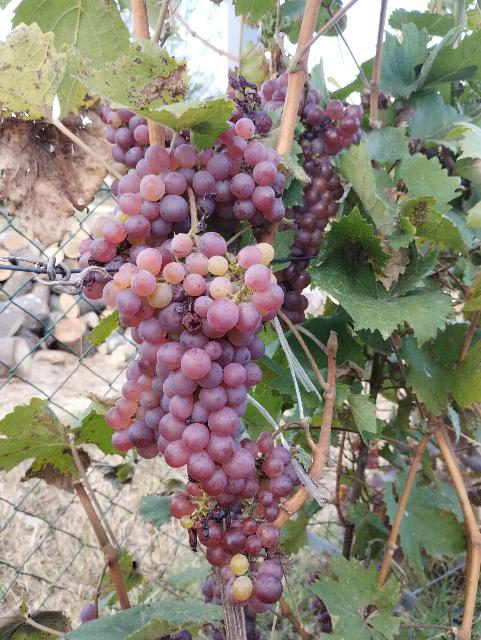grapes: (102, 210, 290, 506), (80, 106, 281, 268), (280, 89, 364, 321), (190, 435, 300, 612)
